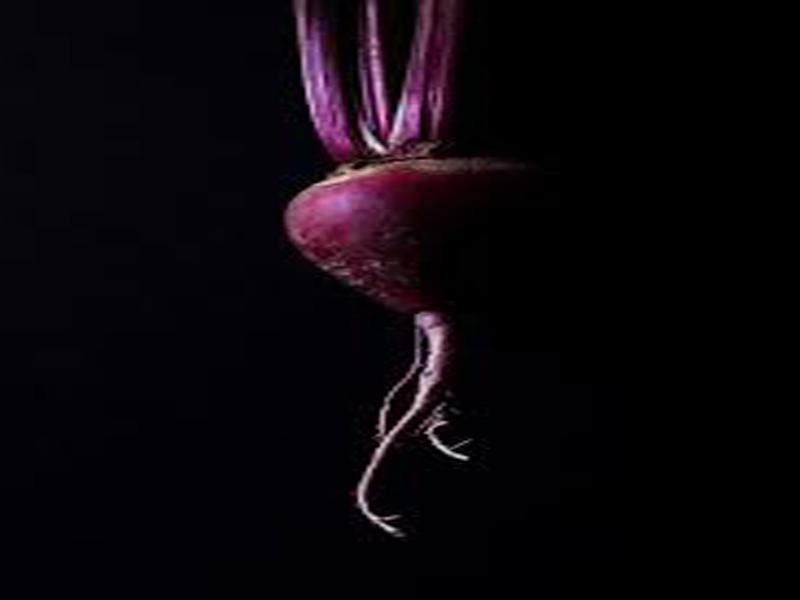Beet: (267, 2, 560, 537)
